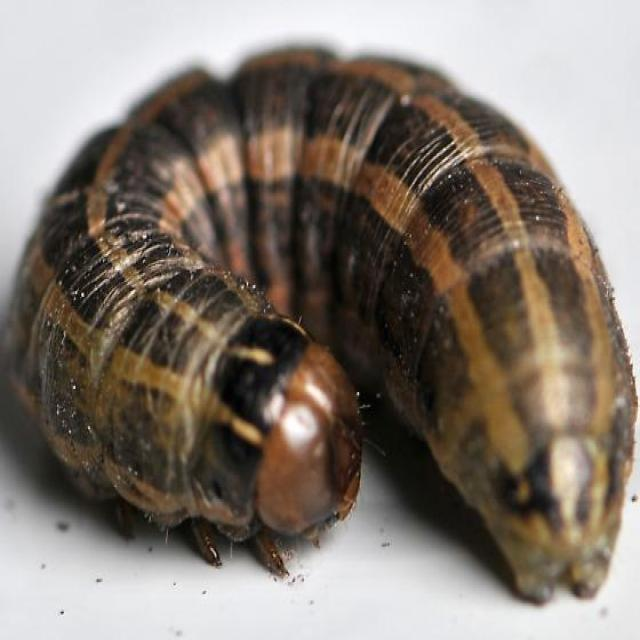worm: (1, 43, 640, 606)
